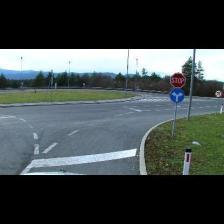Stop: (170, 73, 186, 88)
